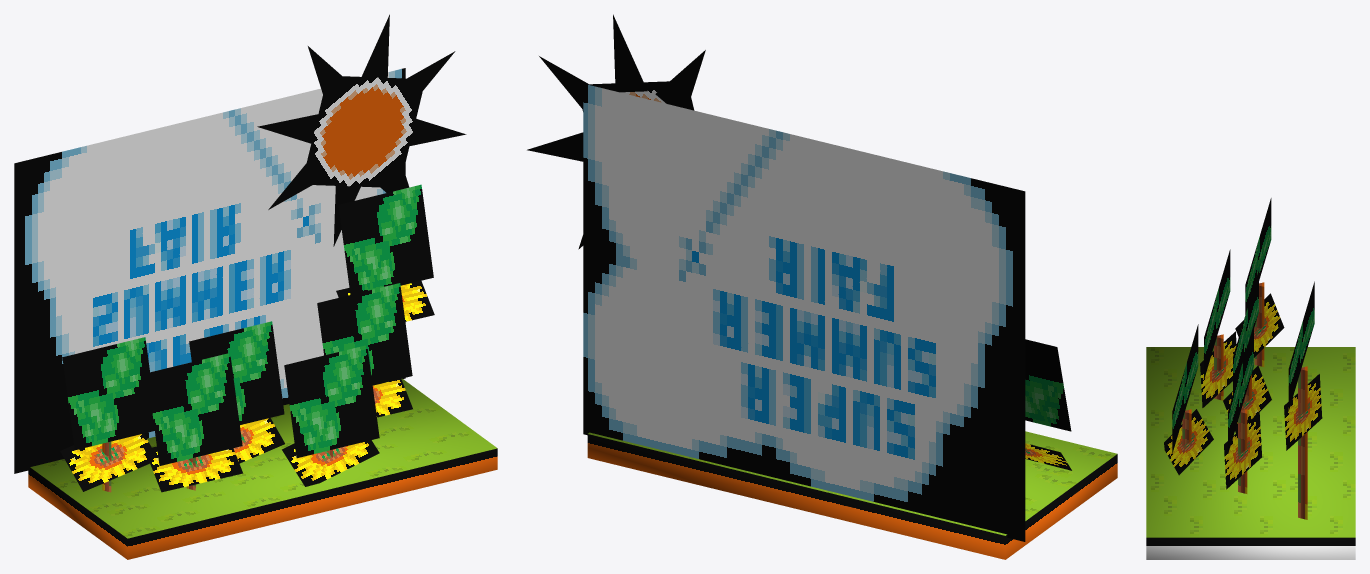
3 views of the same model, side by side, from view 1: azimuth 30°, elevation 25°; view 2: azimuth 150°, elevation 25°; view 3: azimuth 270°, elevation 25° (orthographic). The views are drawn at different scales.
Parts seen in each view (by area): view 1: 3774kg_sh0_21; view 2: 3774kg_sh0_21; view 3: 3774kg_sh0_21.
Boxes of the visible parts, <box> form: 3774kg_sh0_21: <box>14,14,497,559</box>; 3774kg_sh0_21: <box>527,14,1117,559</box>; 3774kg_sh0_21: <box>1146,198,1355,559</box>.
Size of the model in its own units: 2.34 by 1.96 by 0.8999.
Materials: 4 (4 with a texture image).
